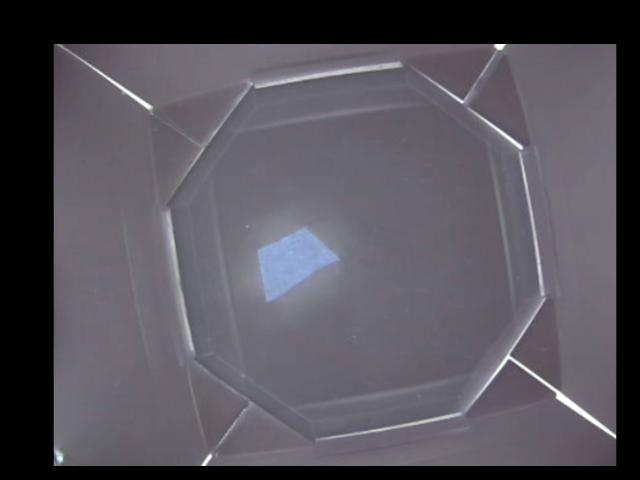China: (258, 227, 342, 298)
